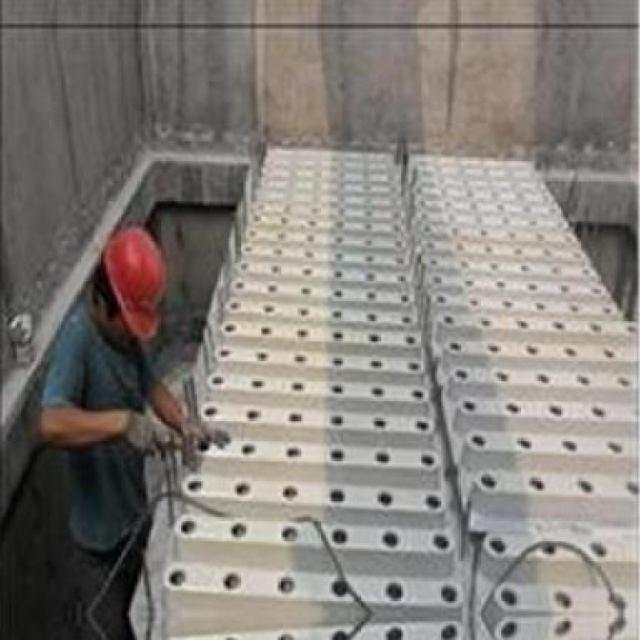helmet: (90, 228, 168, 342)
